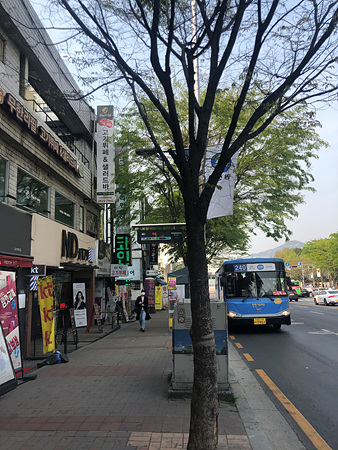bnum: (234, 262, 247, 272)
